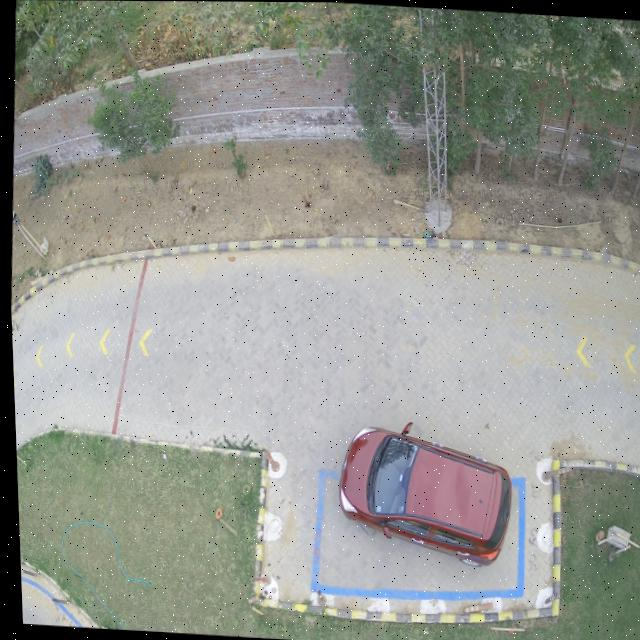car: (335, 423, 508, 565)
